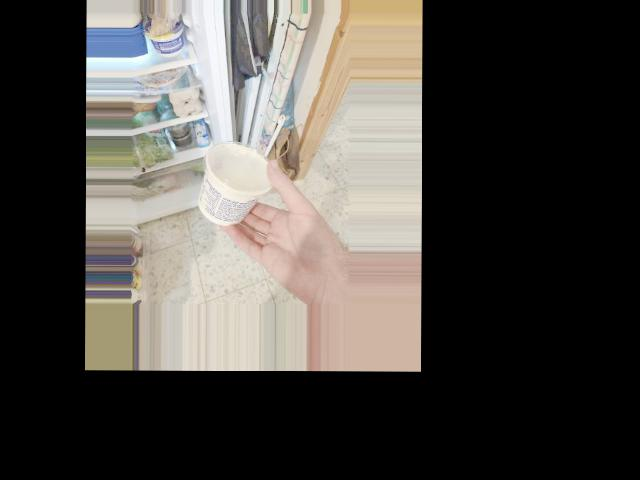cotage: (204, 142, 268, 229)
